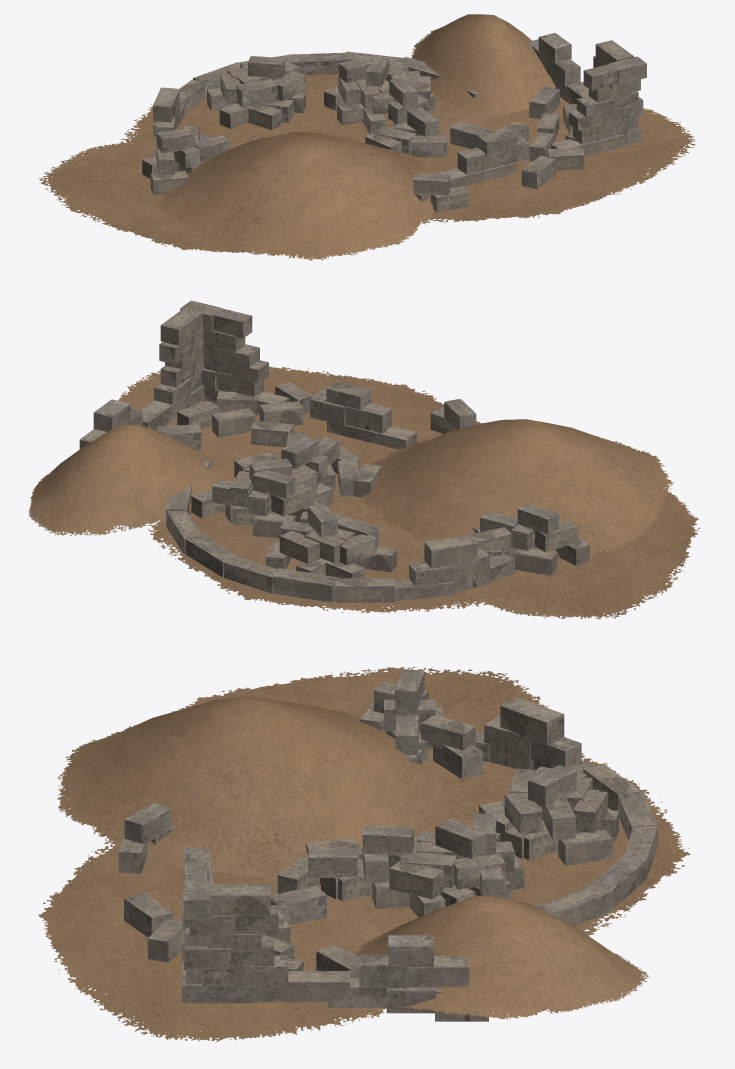
File: Limestone_Burner_Construction_Stage_1.fbx
The picture shows the model from 3 angles, top to bottom: view 1: azimuth 30°, elevation 25°; view 2: azimuth 150°, elevation 25°; view 3: azimuth 270°, elevation 25°; orthographic projection. The views are drawn at different scales.
Parts seen in each view (by area): view 1: Limestone_Burner_Construction_S1; view 2: Limestone_Burner_Construction_S1; view 3: Limestone_Burner_Construction_S1.
Boxes of the visible parts, x1,y1,x2,y2 form: Limestone_Burner_Construction_S1: (38,14,695,260); Limestone_Burner_Construction_S1: (28,300,699,619); Limestone_Burner_Construction_S1: (38,667,690,1041).
Bounding box in the file's own units: 582 × 85.38 × 436.
